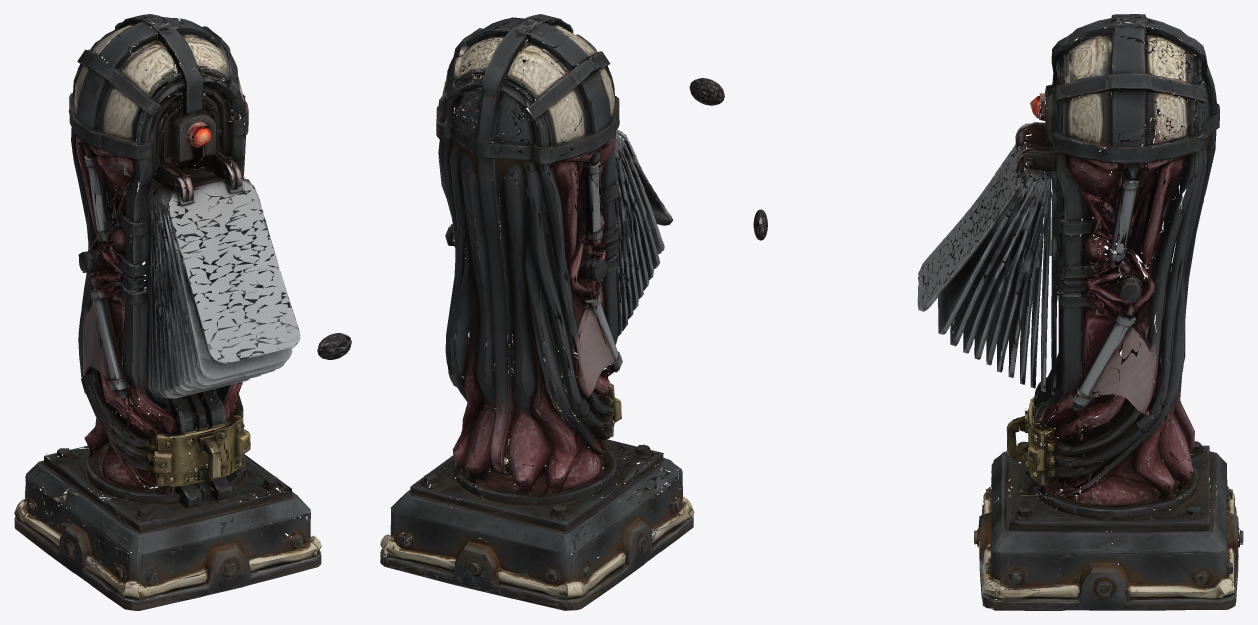
File: vesper_iron_ledger_totem.glb
3 views of the same model, side by side, from view 1: azimuth 30°, elevation 25°; view 2: azimuth 150°, elevation 25°; view 3: azimuth 270°, elevation 25° (orthographic). The views are drawn at different scales.
Visible parts, largest first — view 1: node_0, HB_PULSE_00; view 2: node_0, HB_PULSE_00; view 3: node_0.
Part boxes in pixels (x1,y1,x2,y2): node_0: [14, 14, 321, 610]; HB_PULSE_00: [317, 333, 351, 359]; node_0: [380, 14, 694, 610]; HB_PULSE_00: [689, 78, 724, 105]; node_0: [917, 14, 1243, 610].
Size of the model in its own units: 0.4289 by 1.02 by 0.8333.
Materials: 1 (1 with a texture image).
